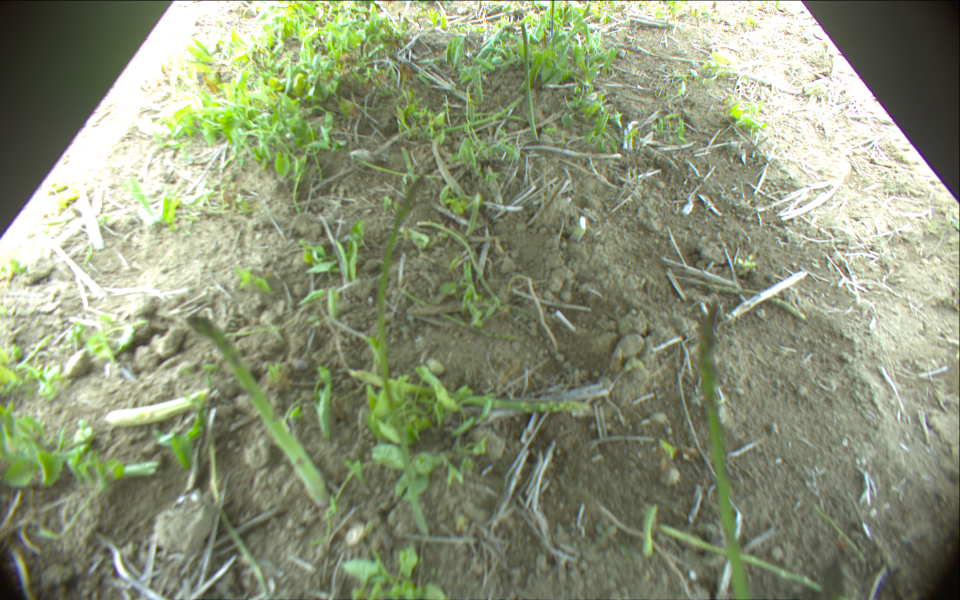aspa: (189, 314, 328, 504), (377, 173, 428, 540), (697, 309, 749, 600), (349, 369, 597, 419), (660, 522, 823, 591), (104, 384, 208, 427), (518, 20, 538, 140), (549, 1, 556, 41)
